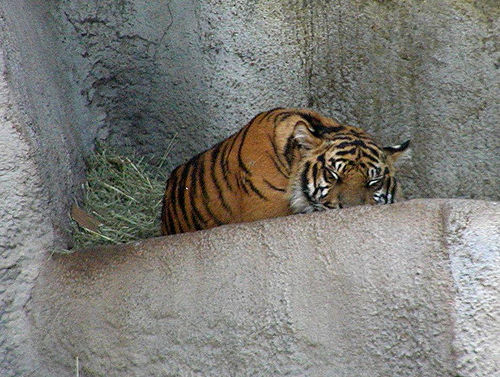Tigre: (147, 90, 408, 244)
